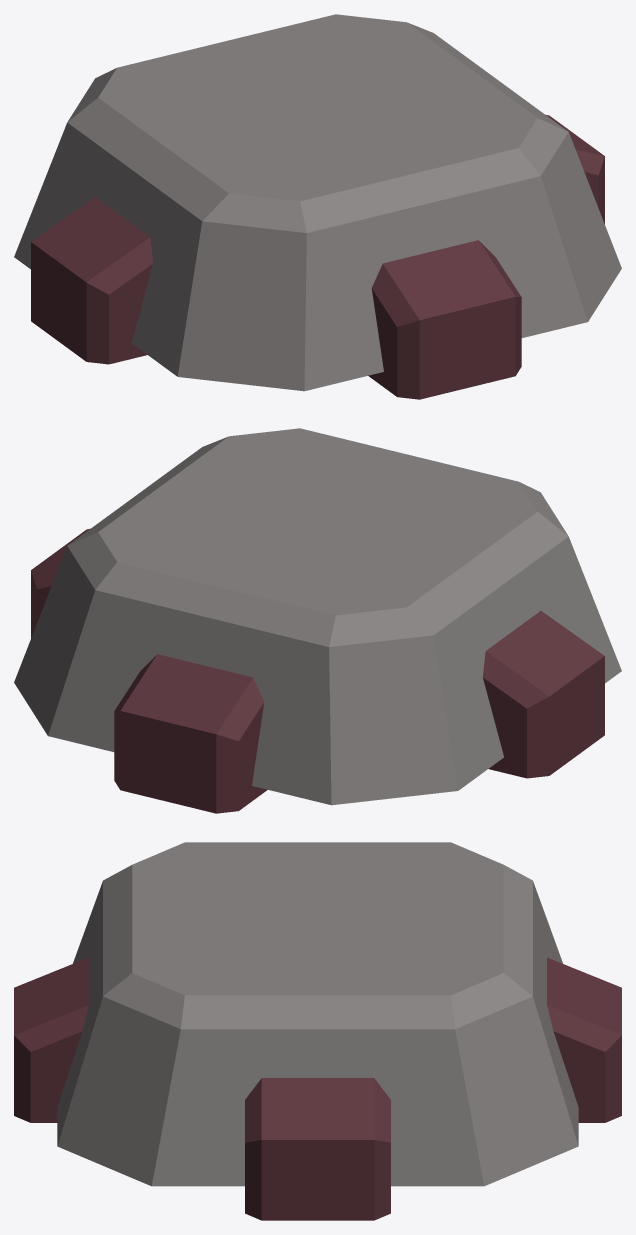
Rendered from scifi-turret-base-square-small.fbx.
3 views of the same model, one above another, from view 1: azimuth 30°, elevation 25°; view 2: azimuth 150°, elevation 25°; view 3: azimuth 270°, elevation 25° (orthographic).
Visible parts, largest first — view 1: scifi-turret-base-square-small; view 2: scifi-turret-base-square-small; view 3: scifi-turret-base-square-small.
Part boxes in pixels (x1,y1,x2,y2): scifi-turret-base-square-small: (14,14,621,399); scifi-turret-base-square-small: (14,428,621,813); scifi-turret-base-square-small: (14,842,621,1220).
Size of the model in its own units: 1.4 by 0.4403 by 1.4.
